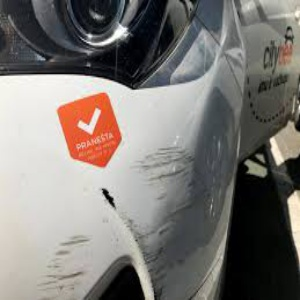bumper_scratch: (41, 168, 213, 293)
